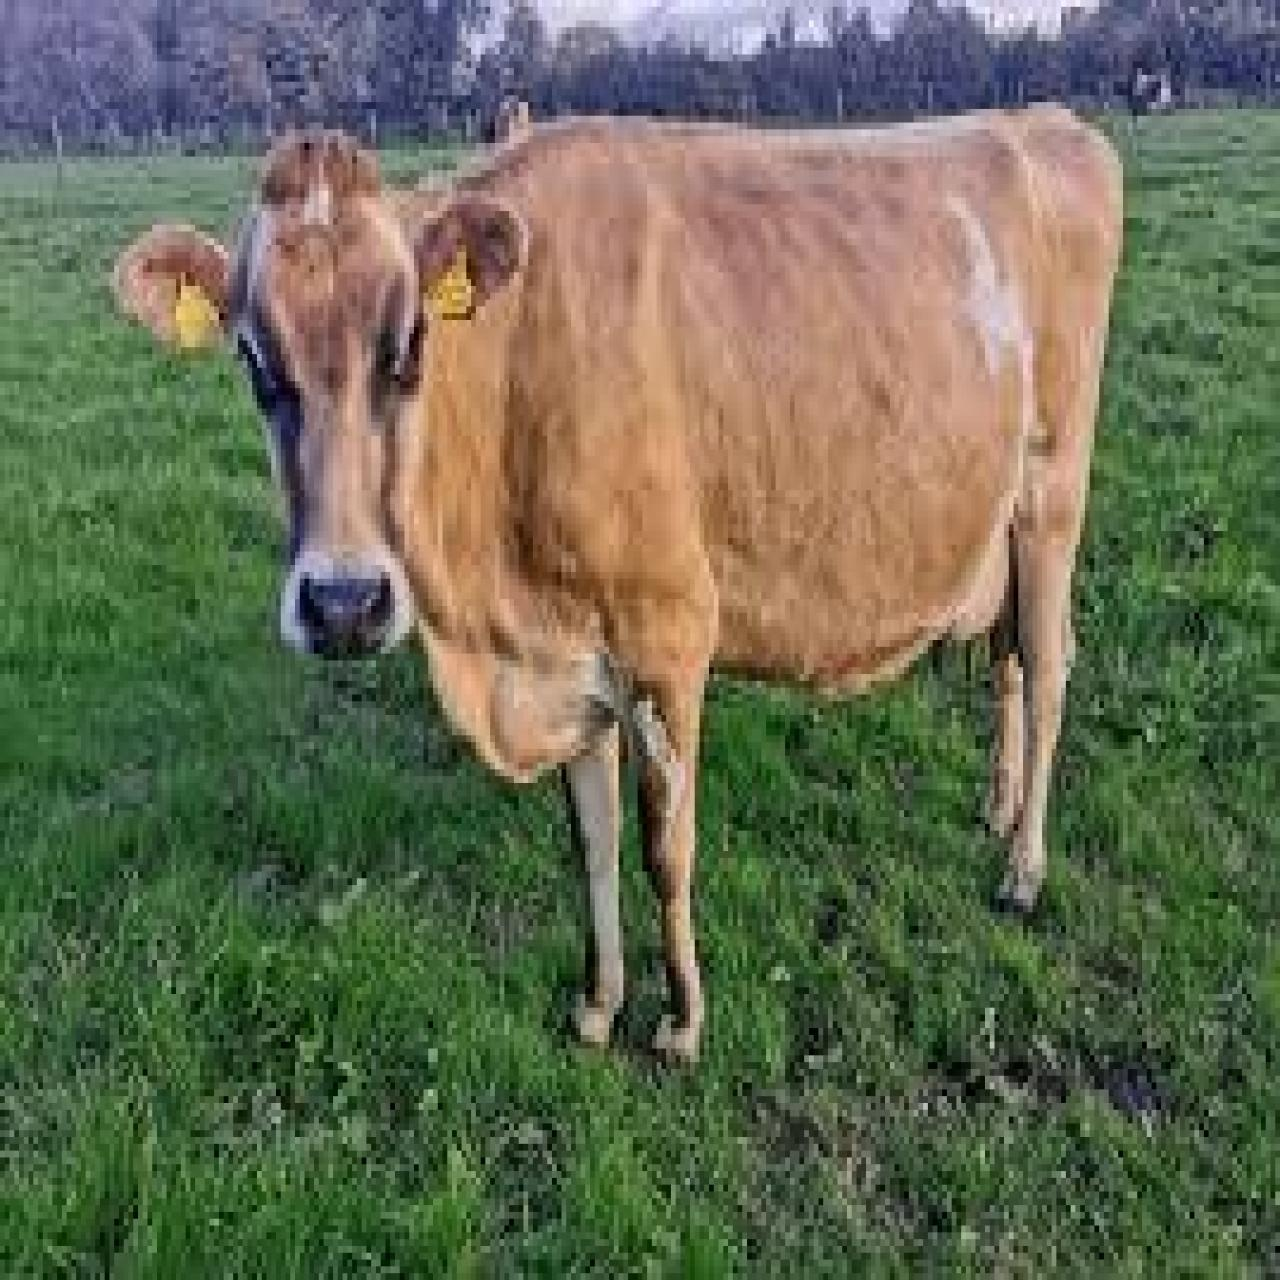cow: (114, 99, 1128, 1066)
